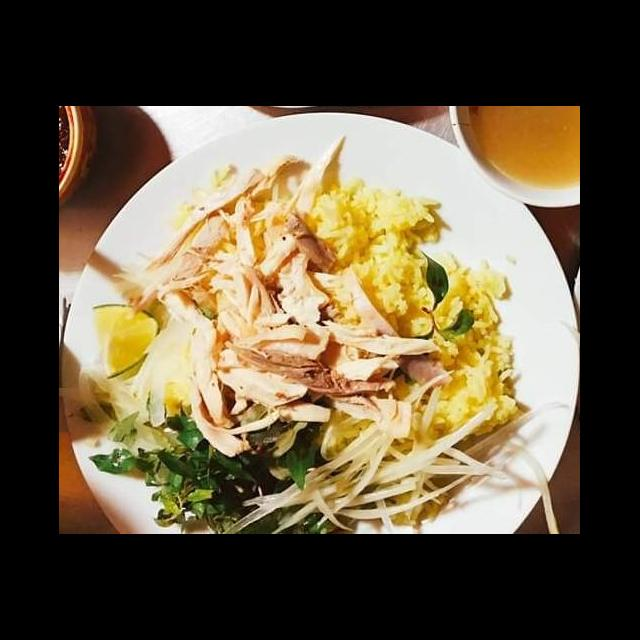com: (304, 175, 510, 342), (427, 331, 522, 438)
com ga: (80, 158, 532, 534)
rau ram: (84, 411, 336, 534)
thit ga: (123, 146, 304, 315), (204, 211, 406, 348), (208, 317, 441, 427), (256, 132, 352, 280)
